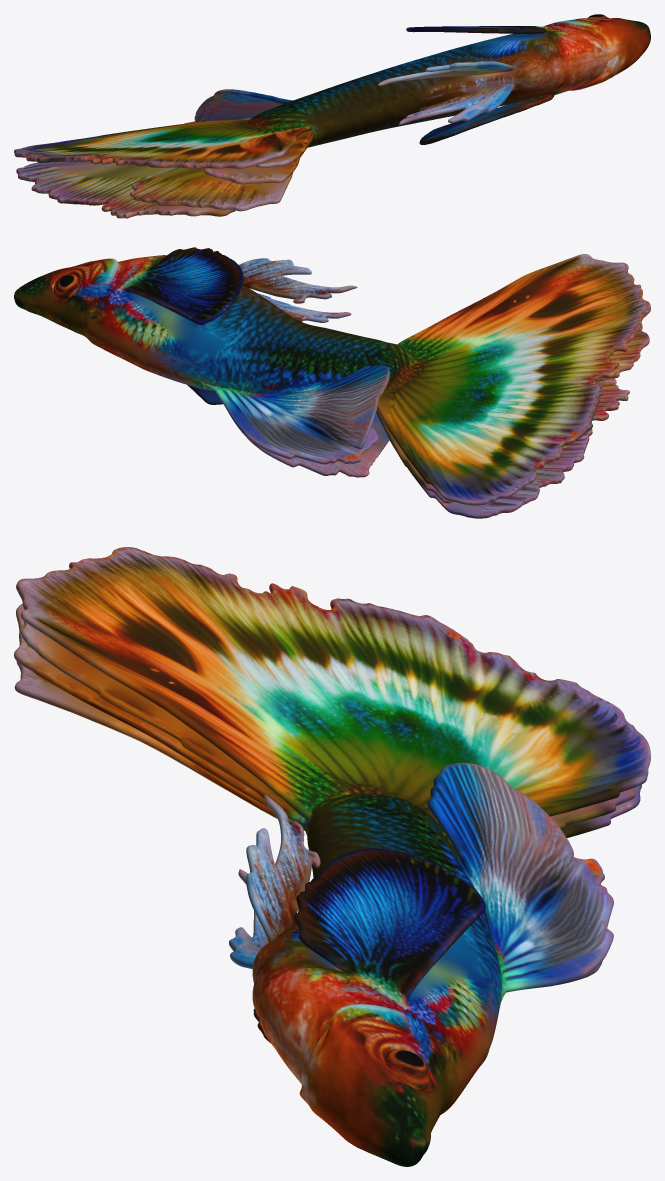
File: guppy.glb
The picture shows the model from 3 angles, top to bottom: view 1: azimuth 30°, elevation 25°; view 2: azimuth 150°, elevation 25°; view 3: azimuth 270°, elevation 25°; orthographic projection. The views are drawn at different scales.
Visible parts, largest first — view 1: Guppy; view 2: Guppy; view 3: Guppy.
Part boxes in pixels (bbox=[...]): Guppy: bbox=[14, 14, 650, 218]; Guppy: bbox=[14, 247, 650, 518]; Guppy: bbox=[14, 547, 650, 1166].
Bounding box in the file's own units: 1.17 × 0.2505 × 0.6196.
1 material, 1 textured.
